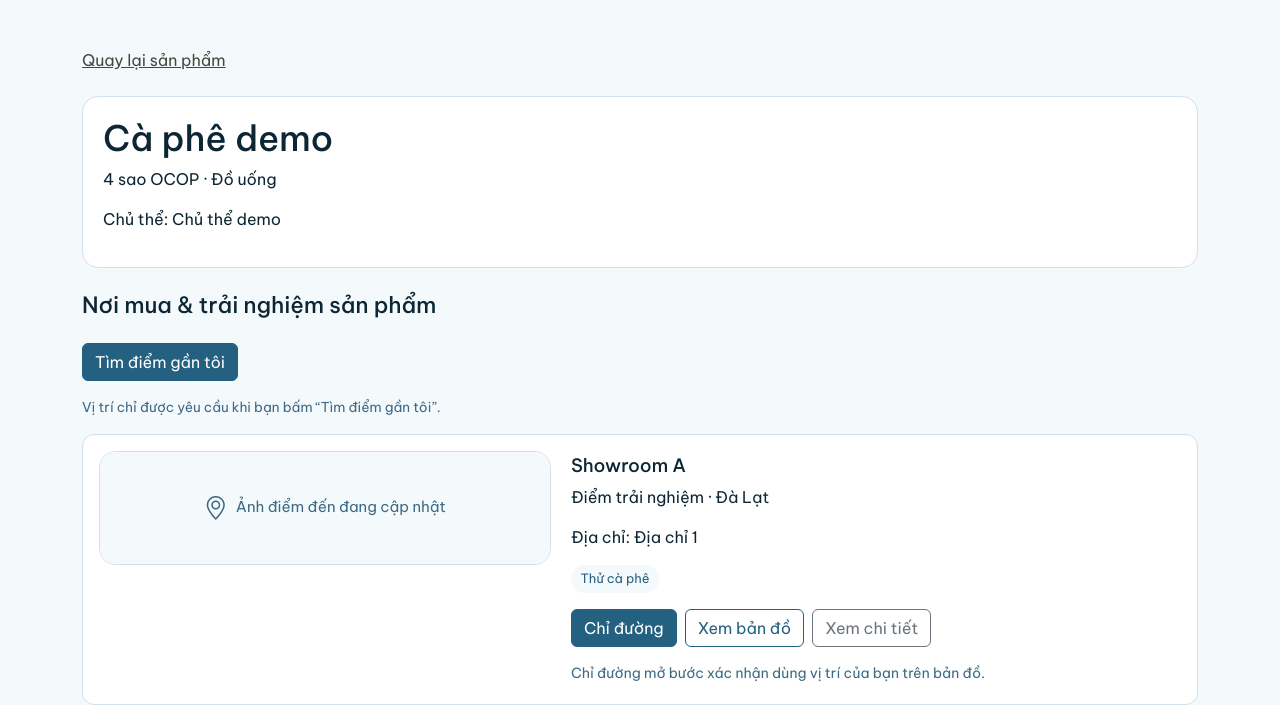
Test: Product Experience Finder › handles unsupported geolocation
Click the button with test id "locate" at (160, 362), box [82, 343, 238, 381]
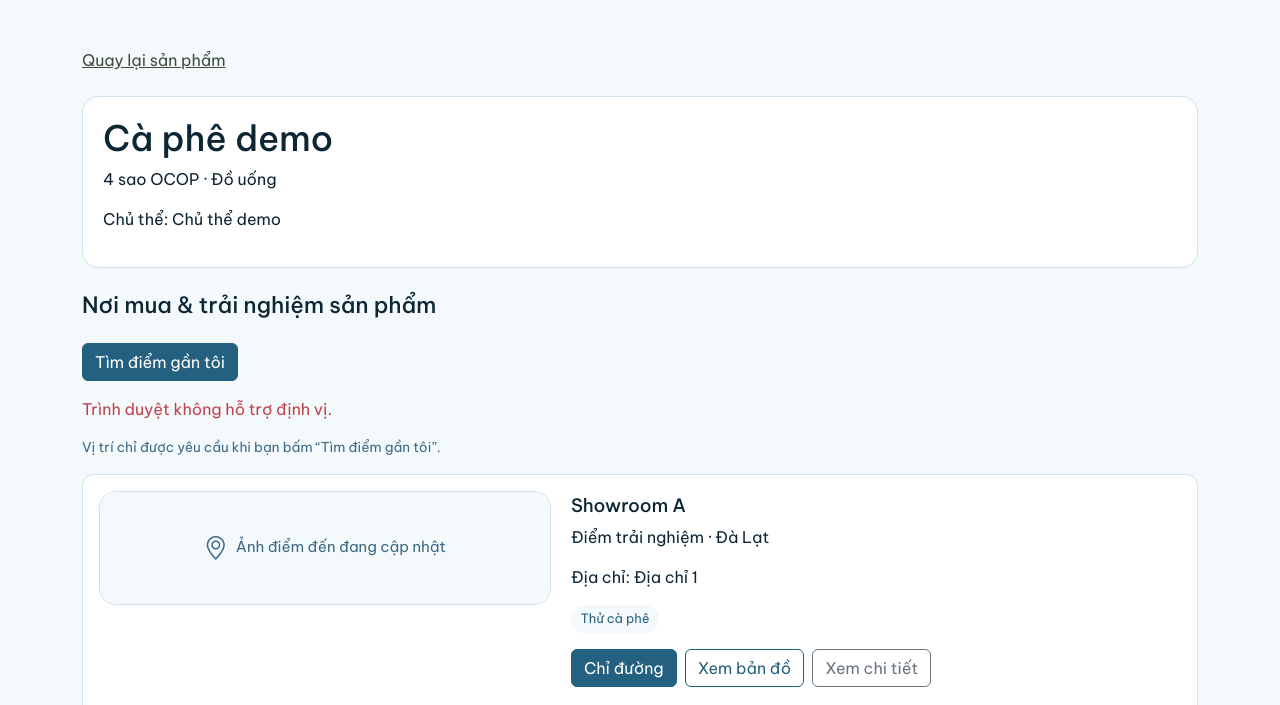
Result: the text "Trình duyệt không hỗ trợ định vị" is shown at [82, 399, 332, 419]
